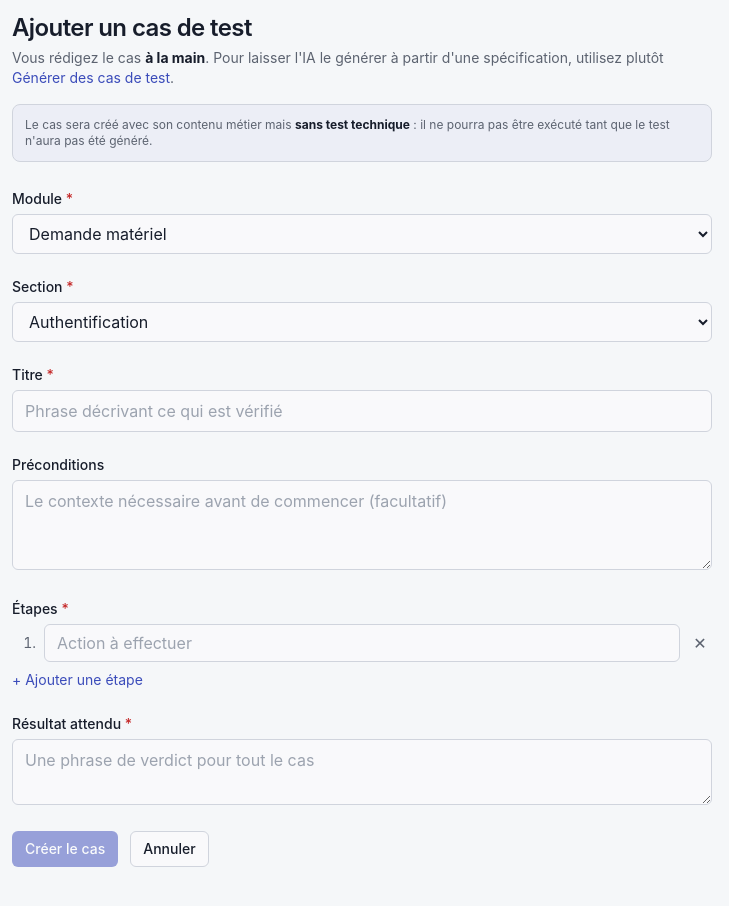
Test case: AddManualCase — Section pré-choisie (2026-09-11, parité TestRail) › changer de module réinitialise la Section pré-choisie (elle n'existe que sous UN module)
Expected: the dropdown labelled "Section *" shows "Authentification", 12,302 -> 712,342
Step 1. Select "Facturation" in the dropdown labelled "Module *" → coordinates (362, 234), box 12,214 -> 712,254
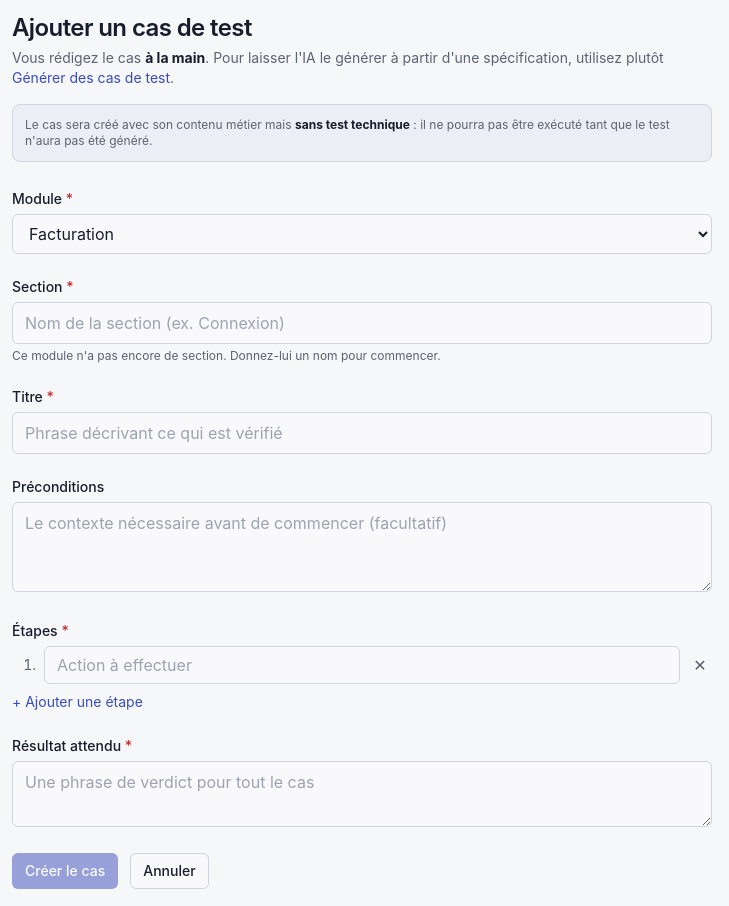
Expected: the text "n'a pas encore de section" is shown, 12,348 -> 441,363
